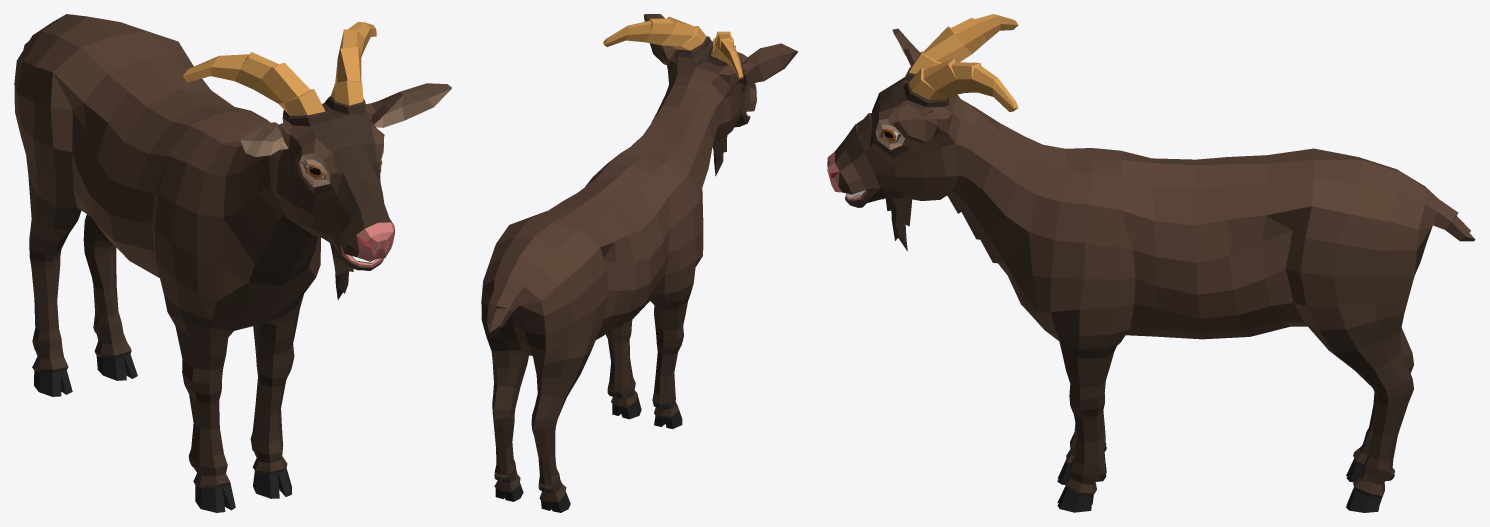
Rendered from LowPoly_Goat_Male_2.obj.
3 views of the same model, side by side, from view 1: azimuth 30°, elevation 25°; view 2: azimuth 150°, elevation 25°; view 3: azimuth 270°, elevation 25° (orthographic). The views are drawn at different scales.
Visible parts, largest first — view 1: Goat_Male_2_Cube.001; view 2: Goat_Male_2_Cube.001; view 3: Goat_Male_2_Cube.001.
Part boxes in pixels (bbox=[...]): Goat_Male_2_Cube.001: bbox=[14, 14, 451, 512]; Goat_Male_2_Cube.001: bbox=[481, 14, 798, 512]; Goat_Male_2_Cube.001: bbox=[827, 14, 1475, 512].
Bounding box in the file's own units: 0.4074 × 0.9092 × 1.19.
